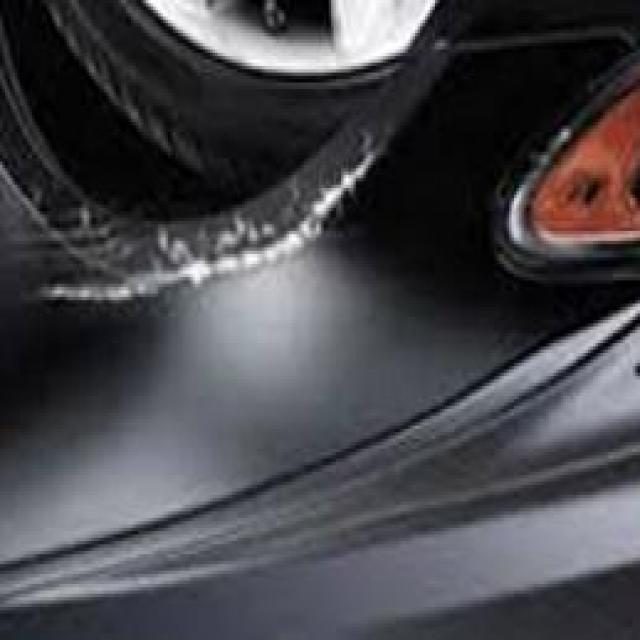scratch: (0, 102, 405, 339)
